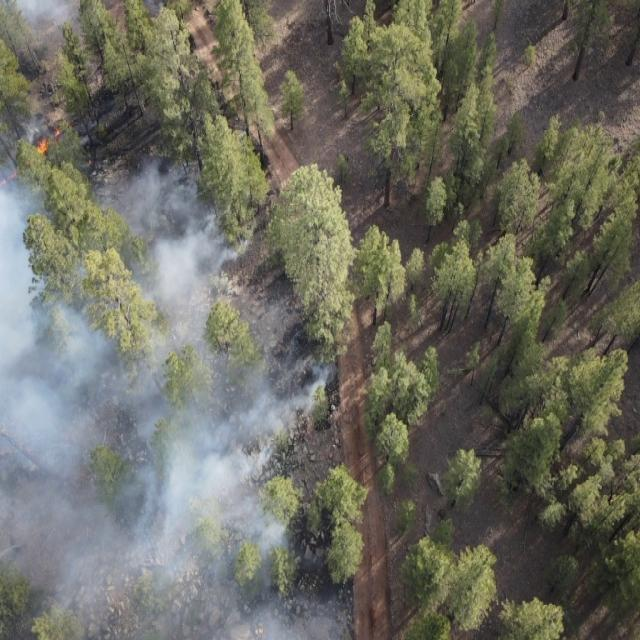fire: (0, 115, 76, 193)
smoke: (0, 159, 240, 640), (238, 225, 357, 640), (1, 2, 164, 49), (0, 105, 90, 160)
